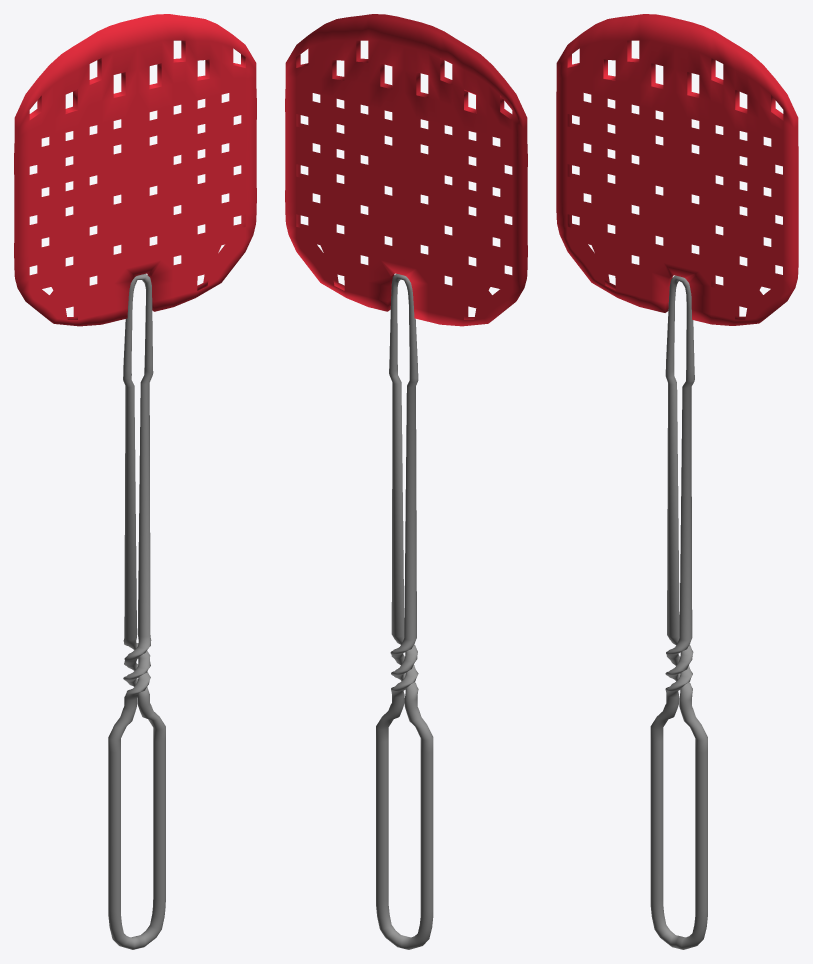
File: Fly_Swatter.glb
The picture shows the model from 3 angles, left to right: view 1: azimuth 30°, elevation 25°; view 2: azimuth 150°, elevation 25°; view 3: azimuth 330°, elevation 25°; orthographic projection.
Visible parts, largest first — view 1: Paddle, Handle; view 2: Paddle, Handle; view 3: Paddle, Handle.
Boxes of the visible parts, x1,y1,x2,y2 form: Paddle: [14, 14, 256, 326]; Handle: [108, 274, 165, 949]; Paddle: [285, 14, 527, 326]; Handle: [376, 273, 433, 949]; Paddle: [556, 14, 798, 325]; Handle: [650, 275, 707, 949].
Size of the model in its own units: 1.03 by 3.83 by 0.1037.
